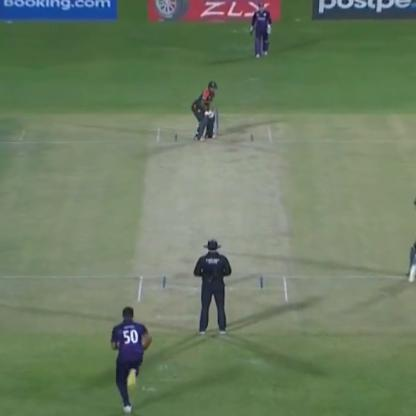bat: (203, 107, 221, 136)
pitch: (137, 122, 307, 322)
